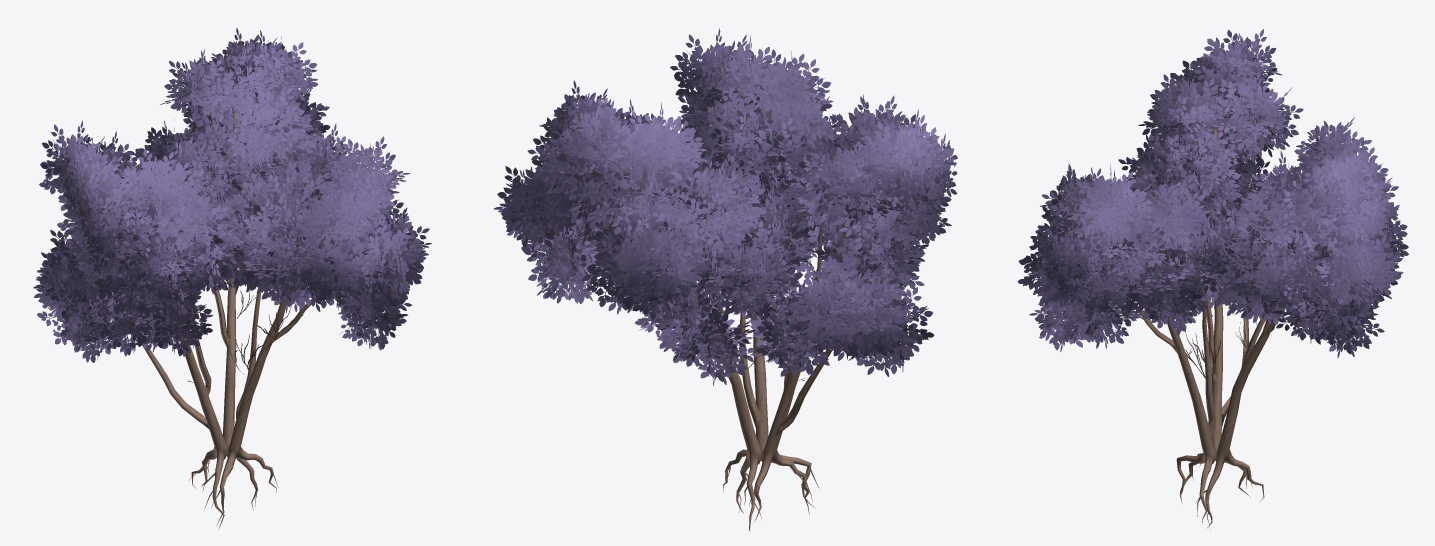
The model's file is fairy_canopy_fae_1.glb.
3 renders of one model, left to right at view 1: azimuth 30°, elevation 25°; view 2: azimuth 150°, elevation 25°; view 3: azimuth 270°, elevation 25°, orthographic. The views are drawn at different scales.
Parts seen in each view (by area): view 1: fairy_canopy_fae_1; view 2: fairy_canopy_fae_1; view 3: fairy_canopy_fae_1.
Part boxes in pixels (x1,y1,x2,y2): fairy_canopy_fae_1: (33, 28, 431, 529); fairy_canopy_fae_1: (493, 28, 957, 531); fairy_canopy_fae_1: (1017, 29, 1408, 530).
Size of the model in its own units: 7.59 by 8.94 by 7.62.
Materials: 2 (2 with a texture image).
